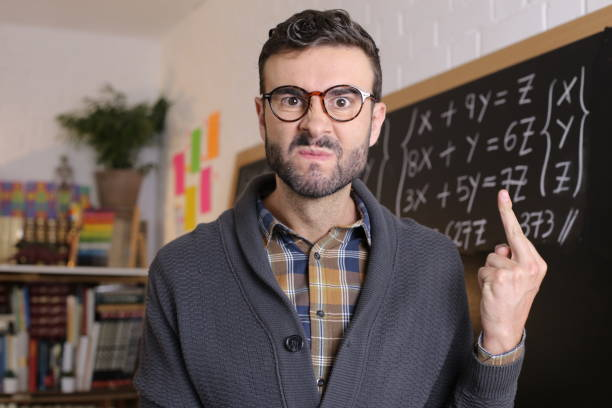insulting_gesture: (475, 183, 548, 328)
